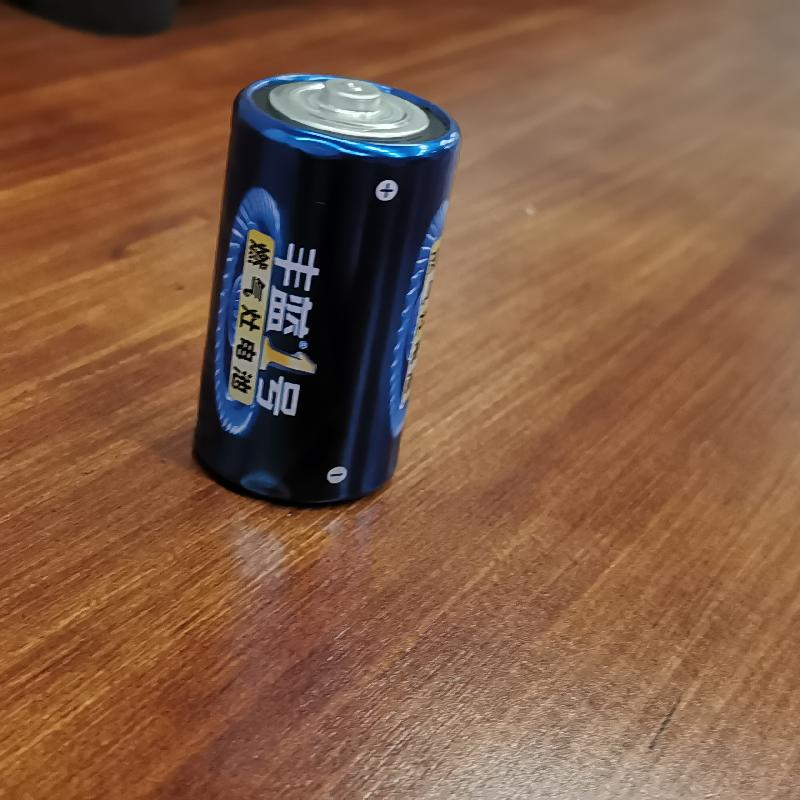battery: (186, 56, 460, 512)
